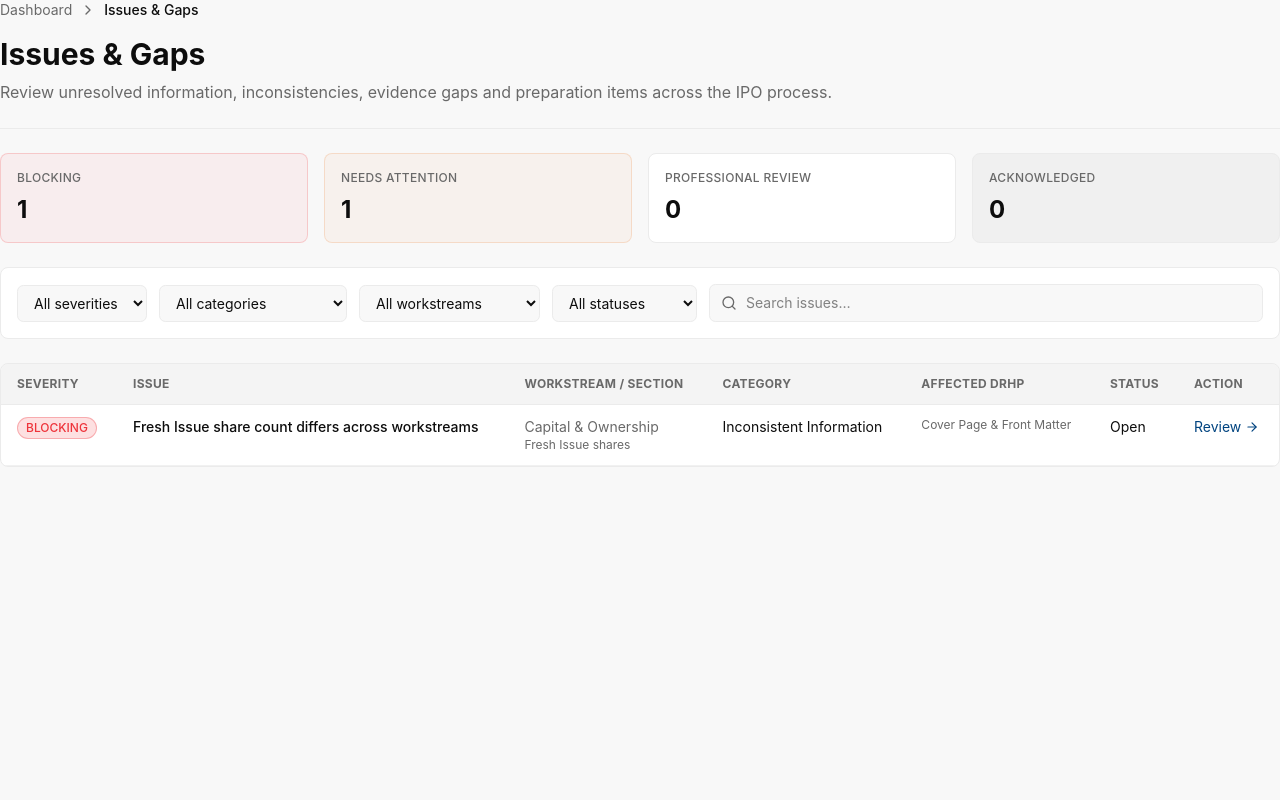
Test case: IssuesGapsWorkspace › opens detail drawer and acknowledges
Later steps or results of the test are not shown.
Click the button "Fresh Issue share count differs across workstreams": (306, 427) [133, 417, 478, 437]
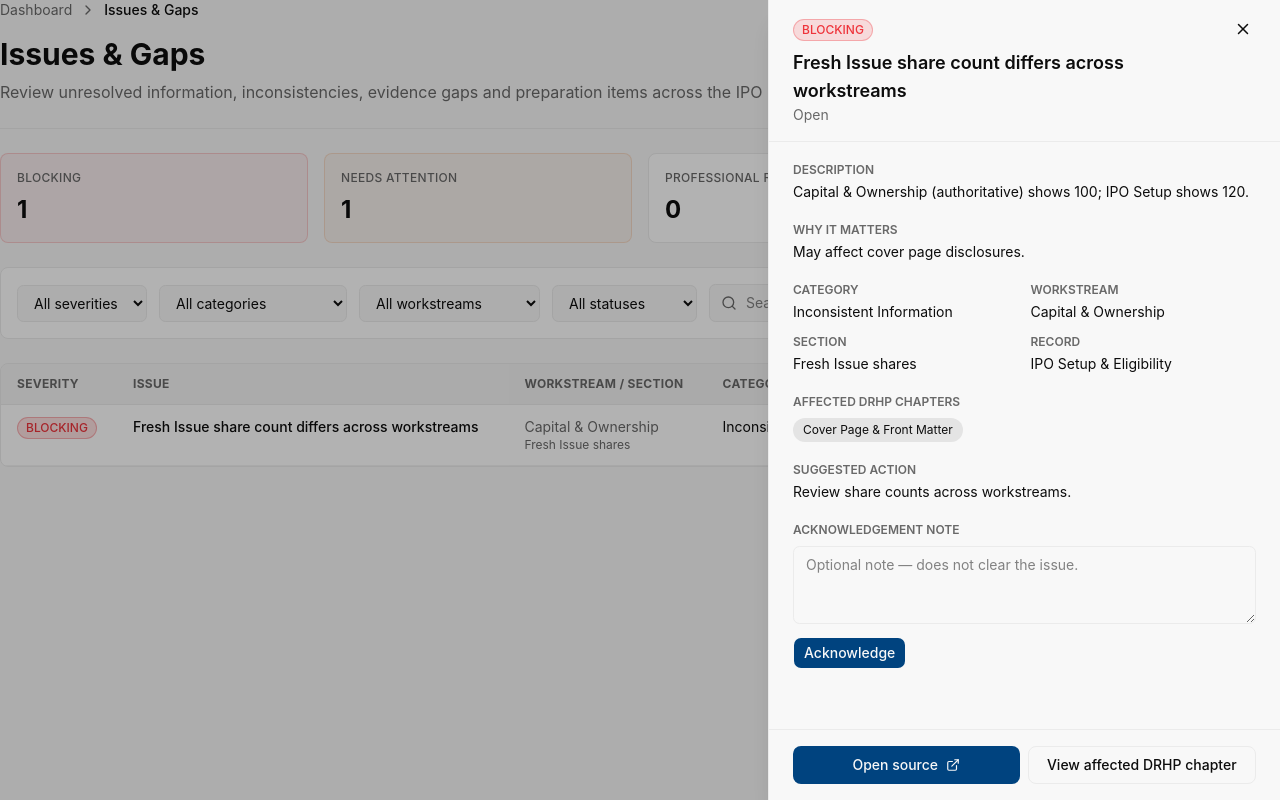
Expected: the text "Cover Page & Front Matter" below "Workstream / Section" is shown, [921, 417, 1071, 432]
Result: the heading "Why it matters" is shown at [793, 222, 898, 237]
